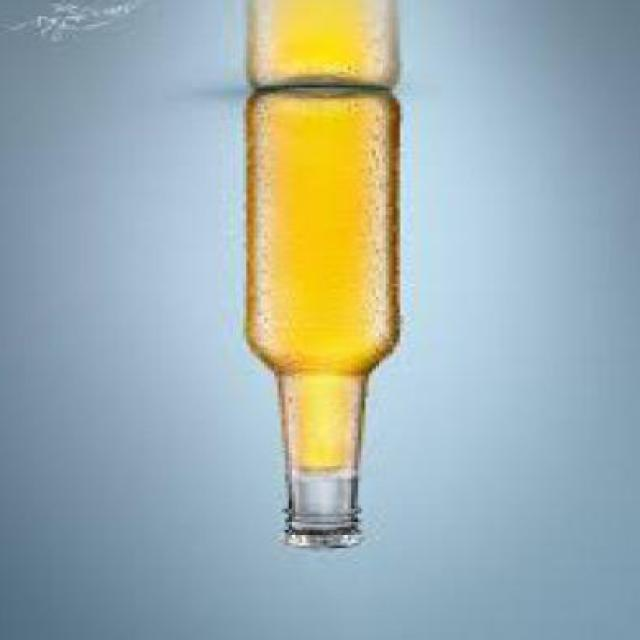kaca: (246, 89, 407, 535)
